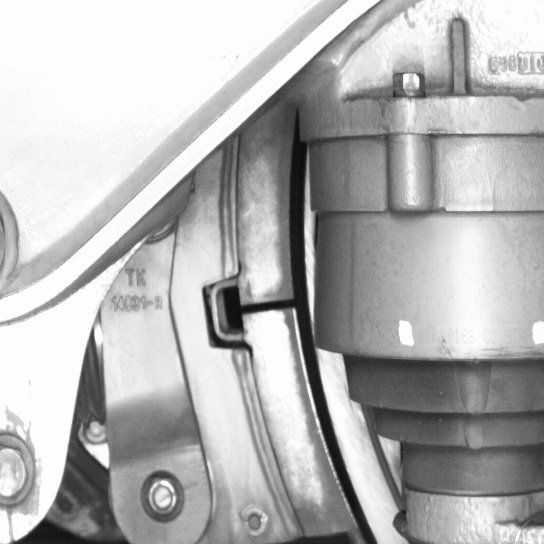KnifeSwitch: (228, 133, 379, 536)
